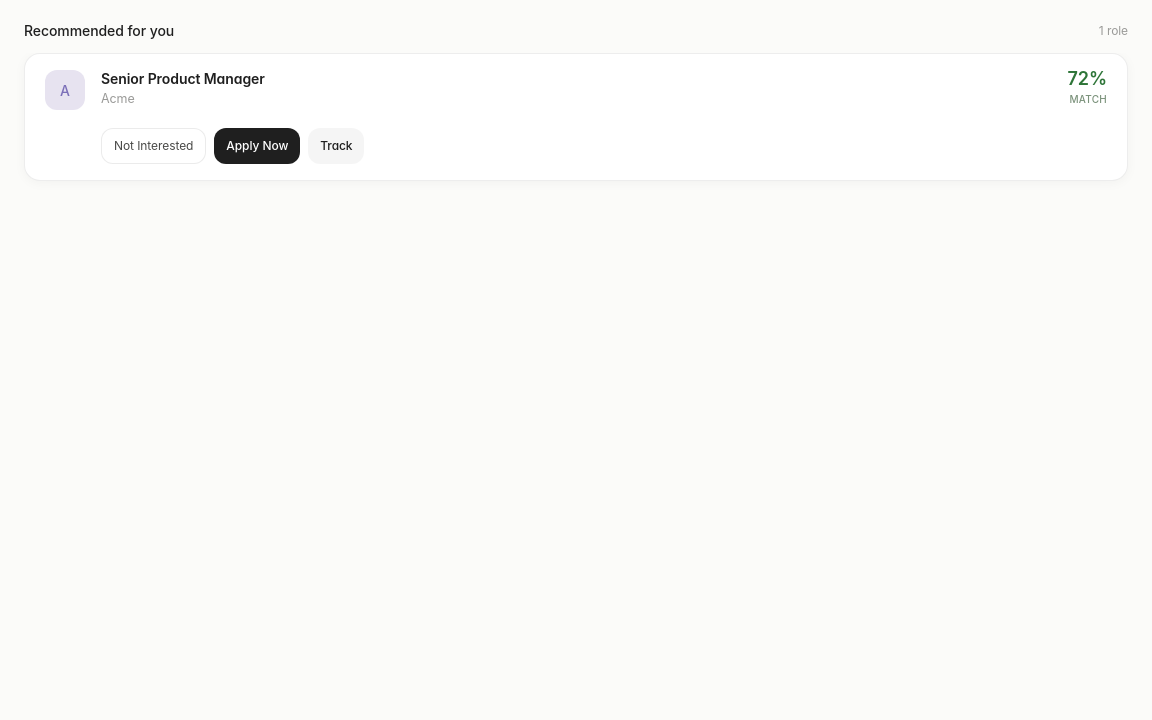
Test: SwipeJobDeck job details navigation › opens Fix My Resume as an in-page workflow before navigating to the editor
Click the button with test id "apply-job-1" at (257, 146), box [214,128,300,164]
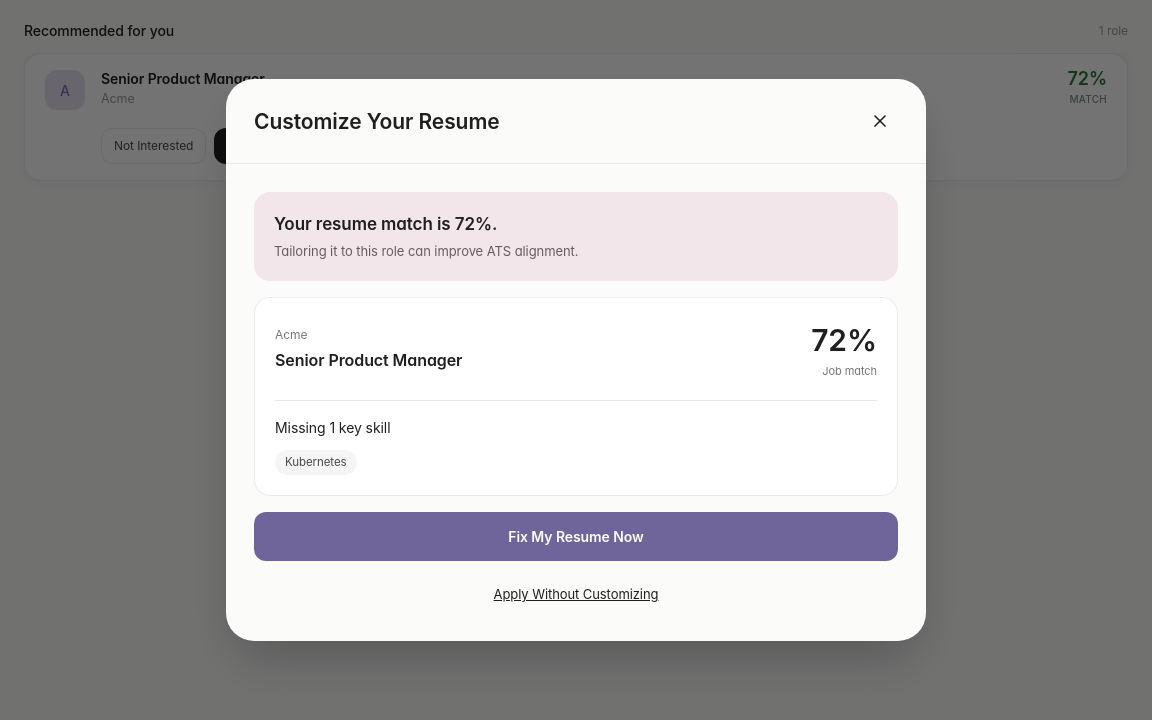
Expected: the button with test id "fix-my-resume" is enabled
Click the button with test id "fix-my-resume" at (576, 537), box [254,512,898,561]
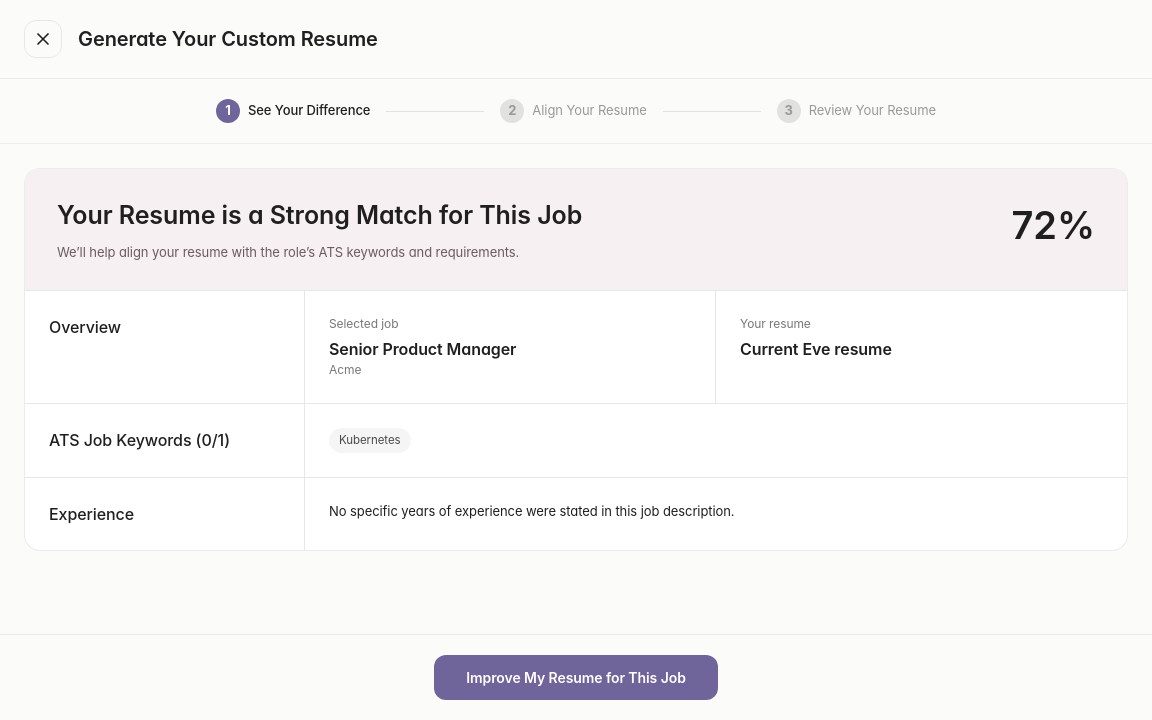
Expected: the text "Generate Your Custom Resume" is shown, [78,24,378,54]
Expected: the text "Improve My Resume for This Job" is shown, [434,655,718,700]
